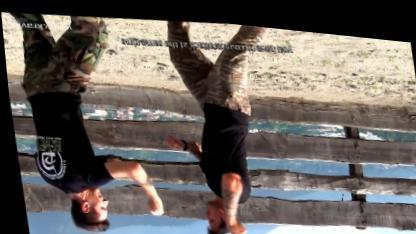knife: (199, 215, 245, 233)
